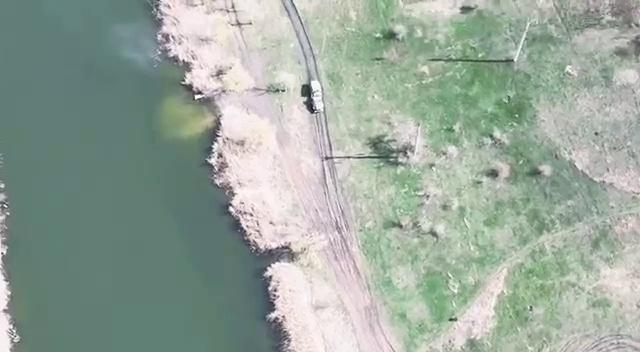person: (530, 305, 534, 310), (454, 317, 458, 322)
vehicle: (310, 80, 324, 112)
